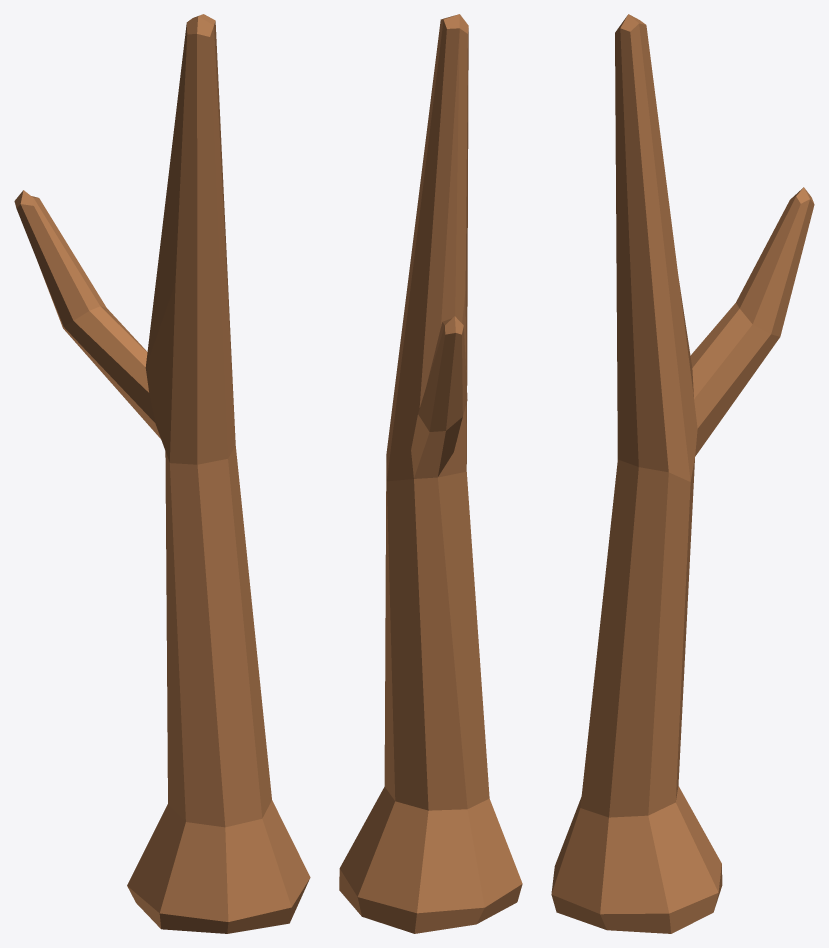
Rendered from Tree12.fbx.
The picture shows the model from 3 angles, left to right: view 1: azimuth 30°, elevation 25°; view 2: azimuth 150°, elevation 25°; view 3: azimuth 270°, elevation 25°; orthographic projection. The views are drawn at different scales.
Parts seen in each view (by area): view 1: Tree12; view 2: Tree12; view 3: Tree12.
Part boxes in pixels (x1,y1,x2,y2): Tree12: (14,14,310,933); Tree12: (339,14,522,933); Tree12: (551,14,814,933).
Bounding box in the file's own units: 103 × 459 × 125.
